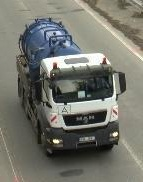truck: (17, 18, 128, 158)
